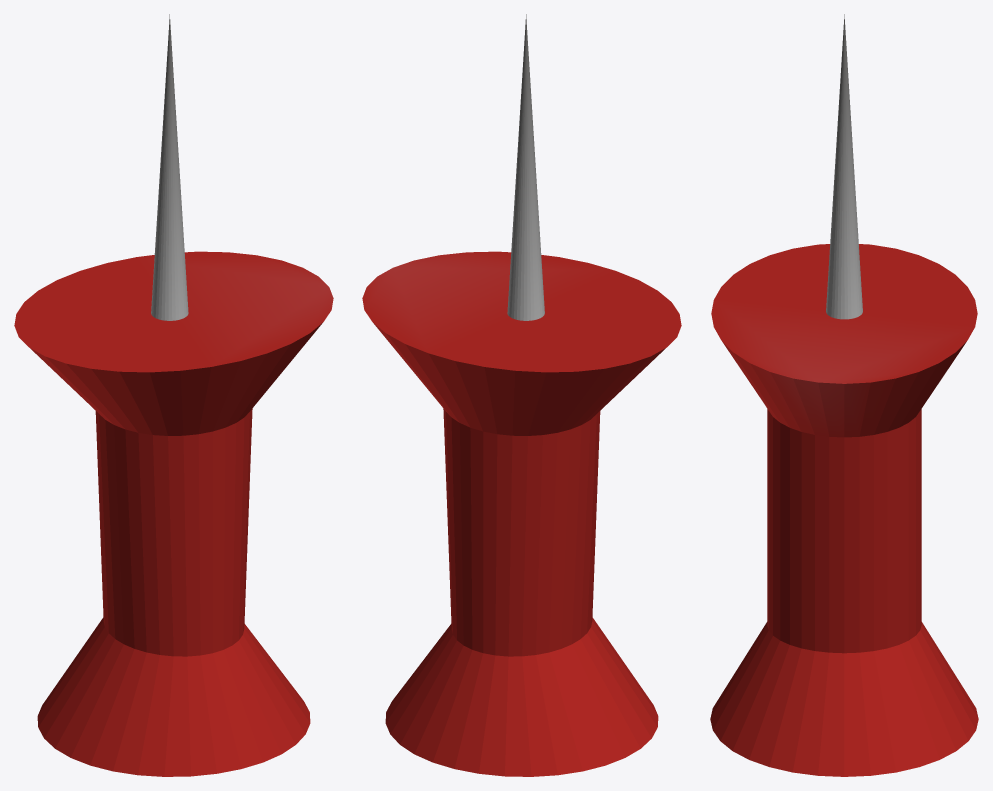
The model's file is thumbtack.gltf.
3 renders of one model, left to right at view 1: azimuth 30°, elevation 25°; view 2: azimuth 150°, elevation 25°; view 3: azimuth 270°, elevation 25°, orthographic.
Parts seen in each view (by area): view 1: Cylinder; view 2: Cylinder; view 3: Cylinder.
Part boxes in pixels (box(x1,y1,x2,y2)): Cylinder: box(14, 14, 333, 776); Cylinder: box(362, 14, 681, 776); Cylinder: box(710, 14, 978, 776).
Size of the model in its own units: 1.06 by 2.47 by 0.8548.
